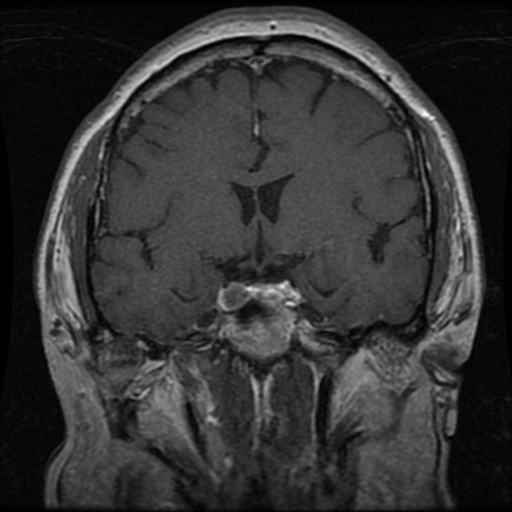pituitary: (215, 281, 250, 313)
